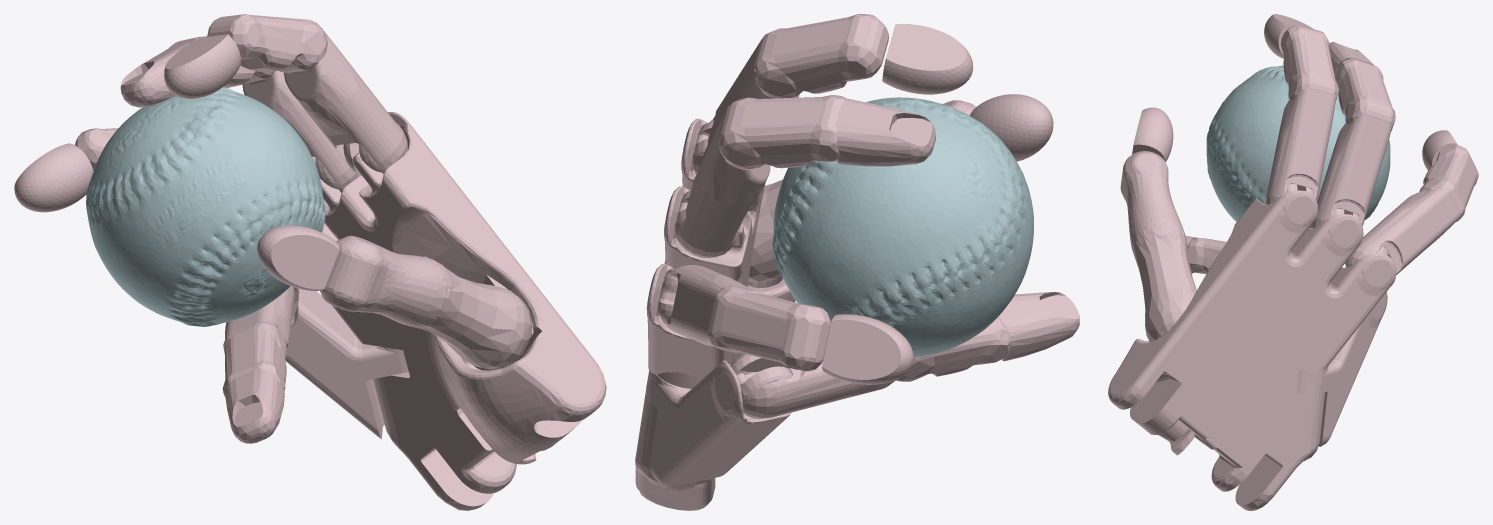
Rendered from grasp_2.glb.
3 views of the same model, side by side, from view 1: azimuth 30°, elevation 25°; view 2: azimuth 150°, elevation 25°; view 3: azimuth 270°, elevation 25° (orthographic). The views are drawn at different scales.
Visible parts, largest first — view 1: world; view 2: world; view 3: world.
Boxes of the visible parts, x1=… form: world: x1=14, y1=14, x2=606, y2=510; world: x1=635, y1=14, x2=1079, y2=510; world: x1=1108, y1=14, x2=1478, y2=510.
Size of the model in its own units: 0.1413 by 0.1766 by 0.1463.
